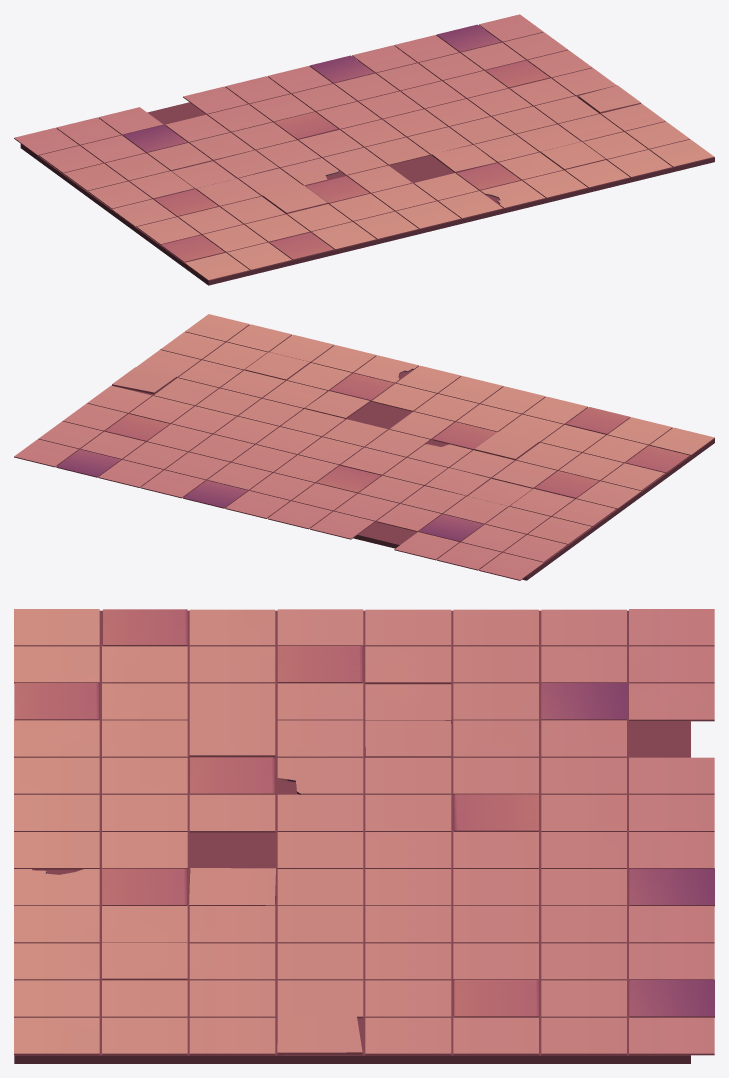
Rendered from suelo_1.fbx.
3 views of the same model, one above another, from view 1: azimuth 30°, elevation 25°; view 2: azimuth 150°, elevation 25°; view 3: azimuth 270°, elevation 25° (orthographic). The views are drawn at different scales.
Visible parts, largest first — view 1: Cube.028; view 2: Cube.028; view 3: Cube.028.
Part boxes in pixels (x1,y1,x2,y2): Cube.028: (14,14,714,285); Cube.028: (14,314,714,580); Cube.028: (14,609,714,1063).
Bounding box in the file's own units: 427 × 5.36 × 284.
